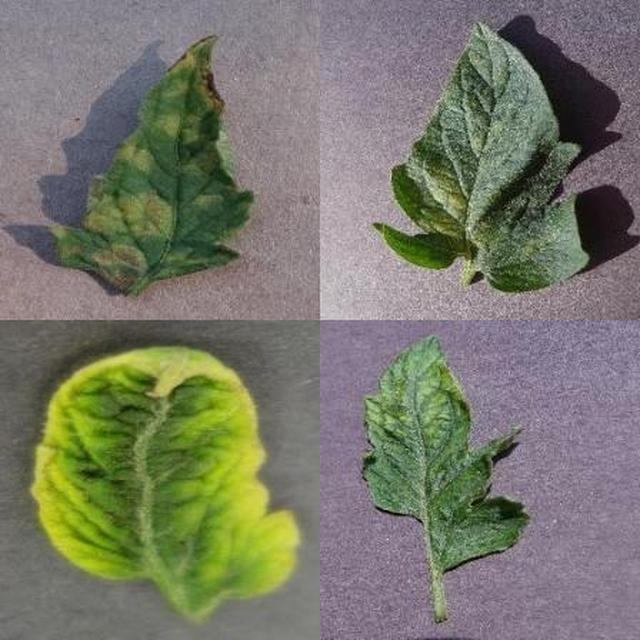Leaf Mold: (216, 223, 640, 640)
